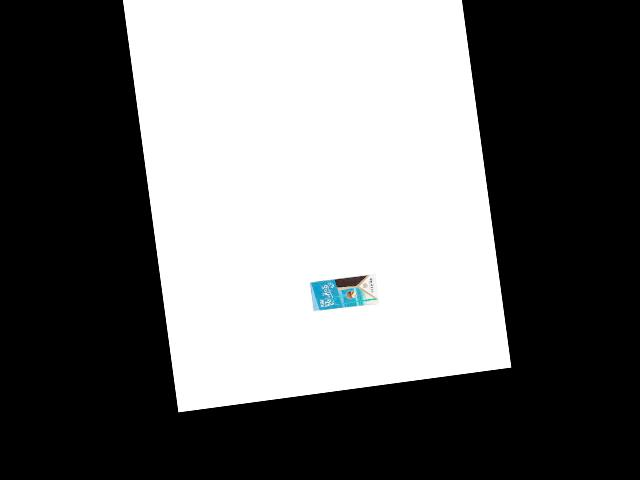chocolate: (308, 271, 381, 313)
